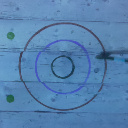Axe Tip: (99, 53, 111, 56)
